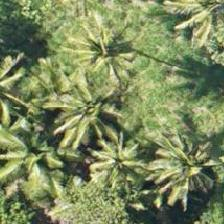coconut_tree: (69, 4, 159, 94), (50, 60, 140, 150), (65, 118, 155, 208), (0, 111, 82, 201), (141, 116, 223, 206), (176, 0, 223, 48)
